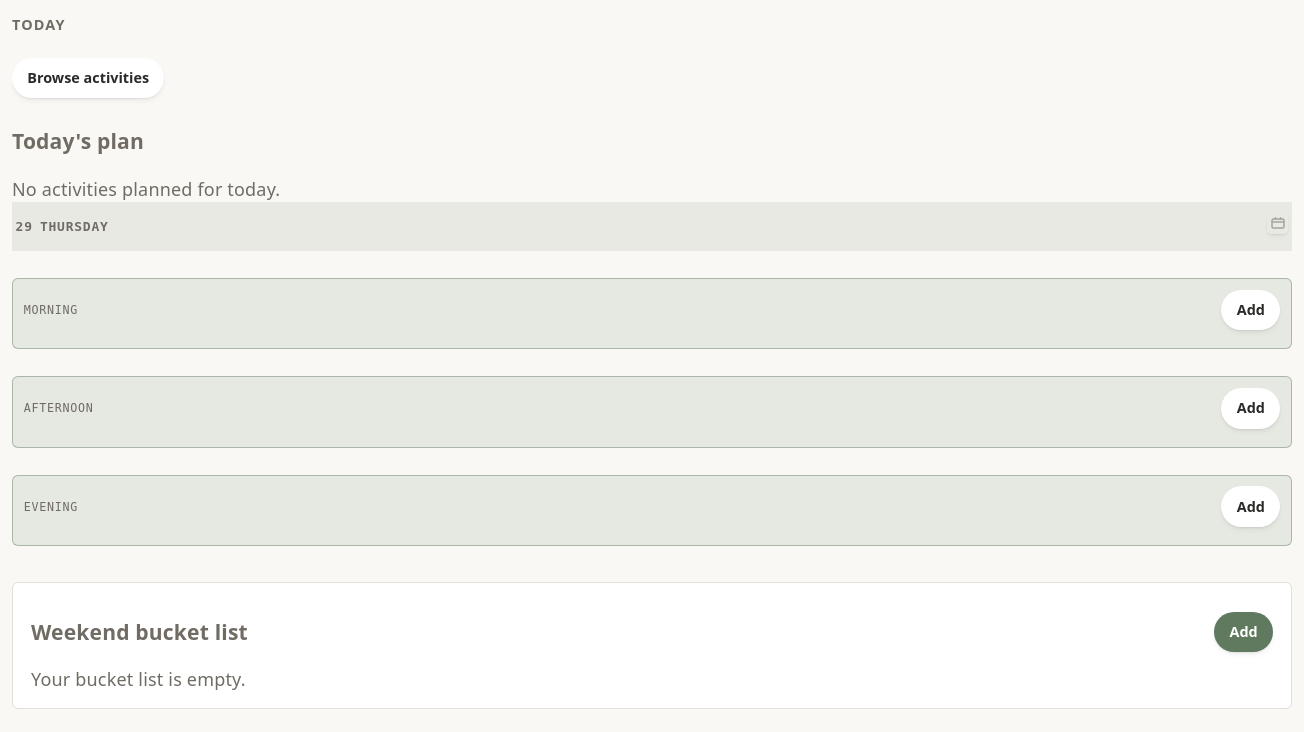
Scenario: TodayView › FRONTEND-016-AC-10/AC-14: the drawer reintroduced for Today › AC-10: "Browse activities" opens a drag-mode ActivityPickerList panel
What coordinates should you click on to do the following:
click the button "Browse activities"
I would click on:
 (88, 78)
Its box is x1=12 y1=58 x2=164 y2=98.
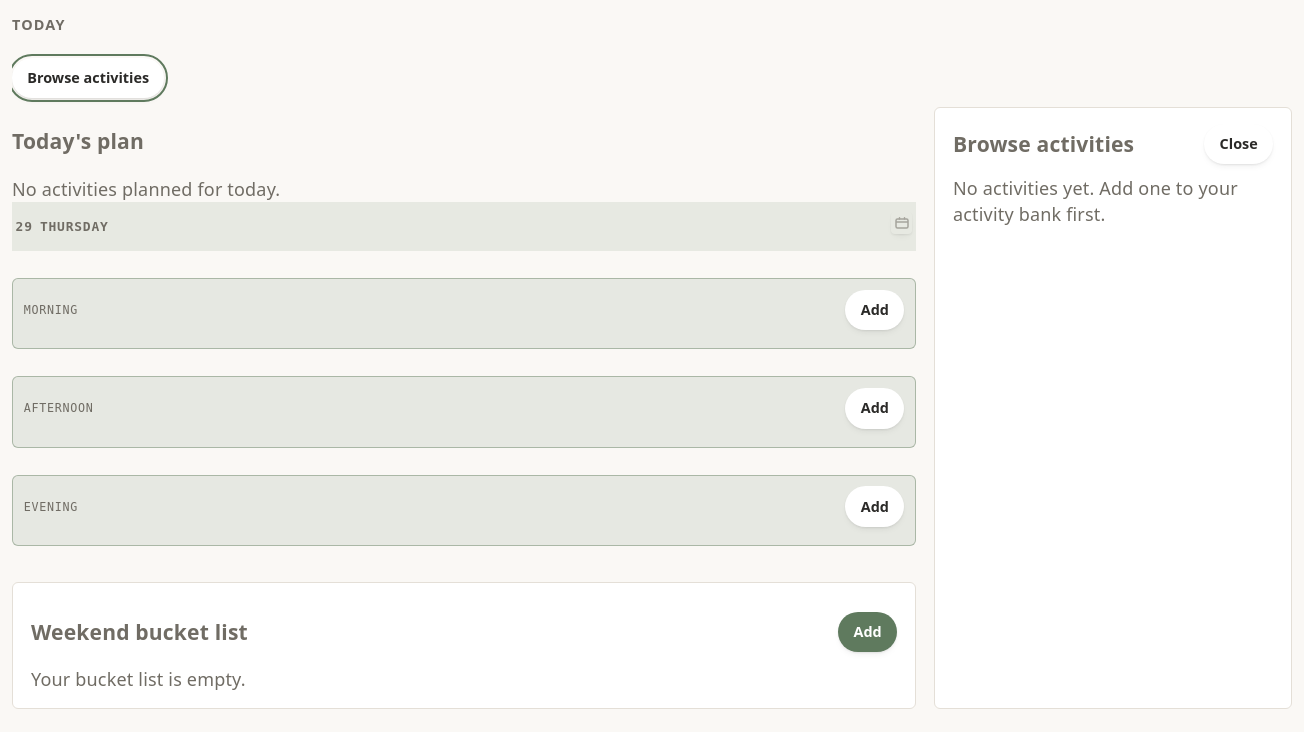
Expected: the element "activities" is shown, x1=934 y1=107 x2=1292 y2=709
